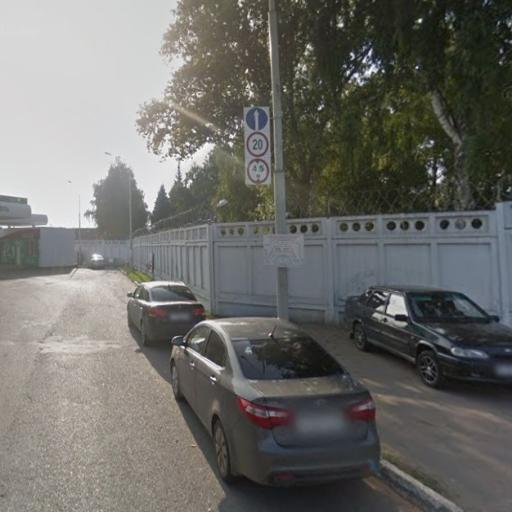traffic_sign: (246, 131, 273, 161)
